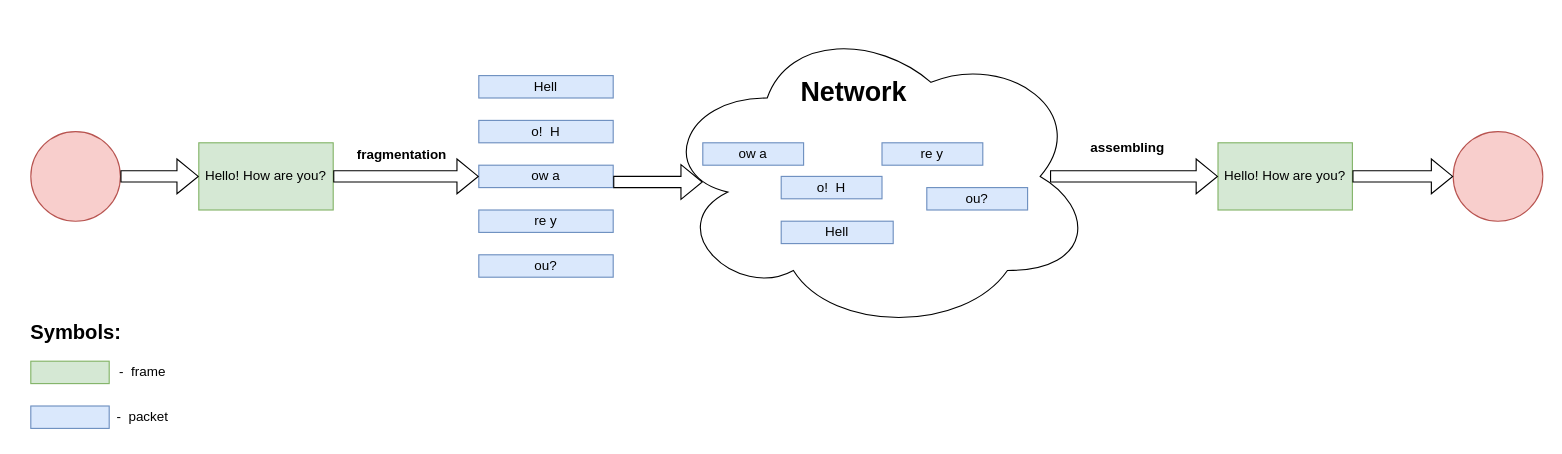
This 1562x454 diagram has some shape labels left out. The shapes that lost their labels are listed below. From the top down, each one's centre as x and y in pixels, then its label:
At (75,175): "Asking Peer".
At (1497,175): "Answering Peer".
